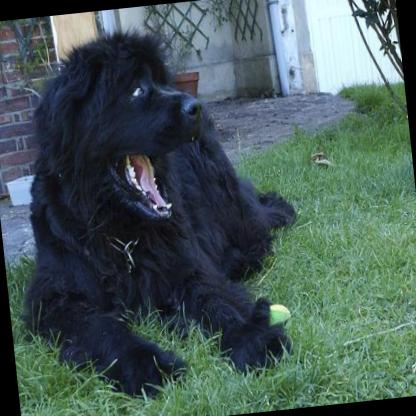Newfoundland: (0, 6, 313, 410)
